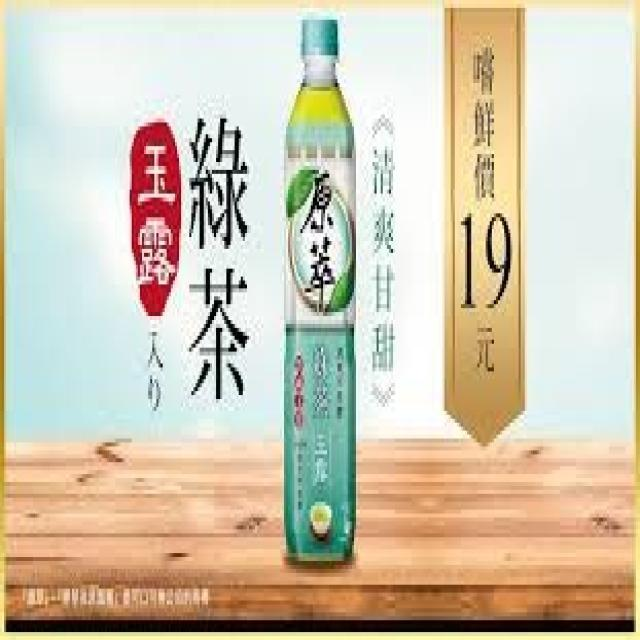YuanTsui_GreenTea: (275, 3, 363, 579)
